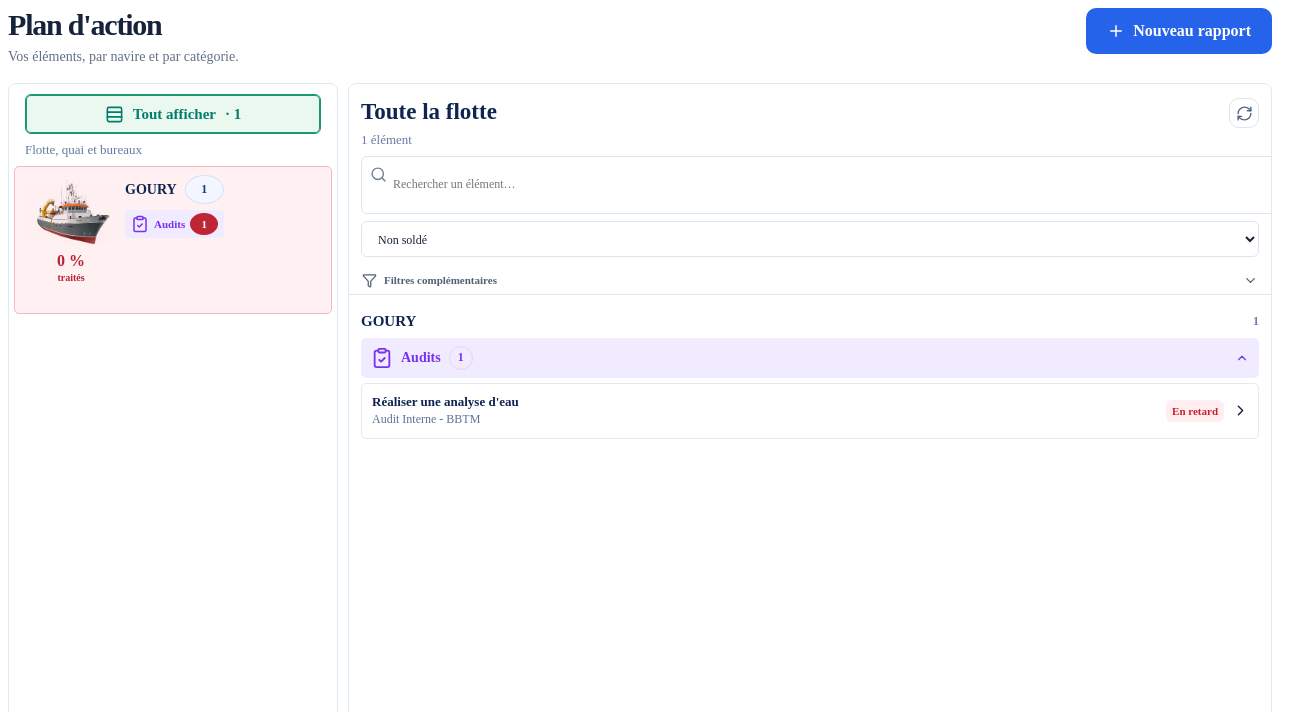
Scenario: ActionPlanPage › keeps reports readable and hides followup controls when server capabilities fail
Click the button with aria-label "Réaliser une analyse d'eau · GOURY" at (445, 402), box [361,383,1259,439]
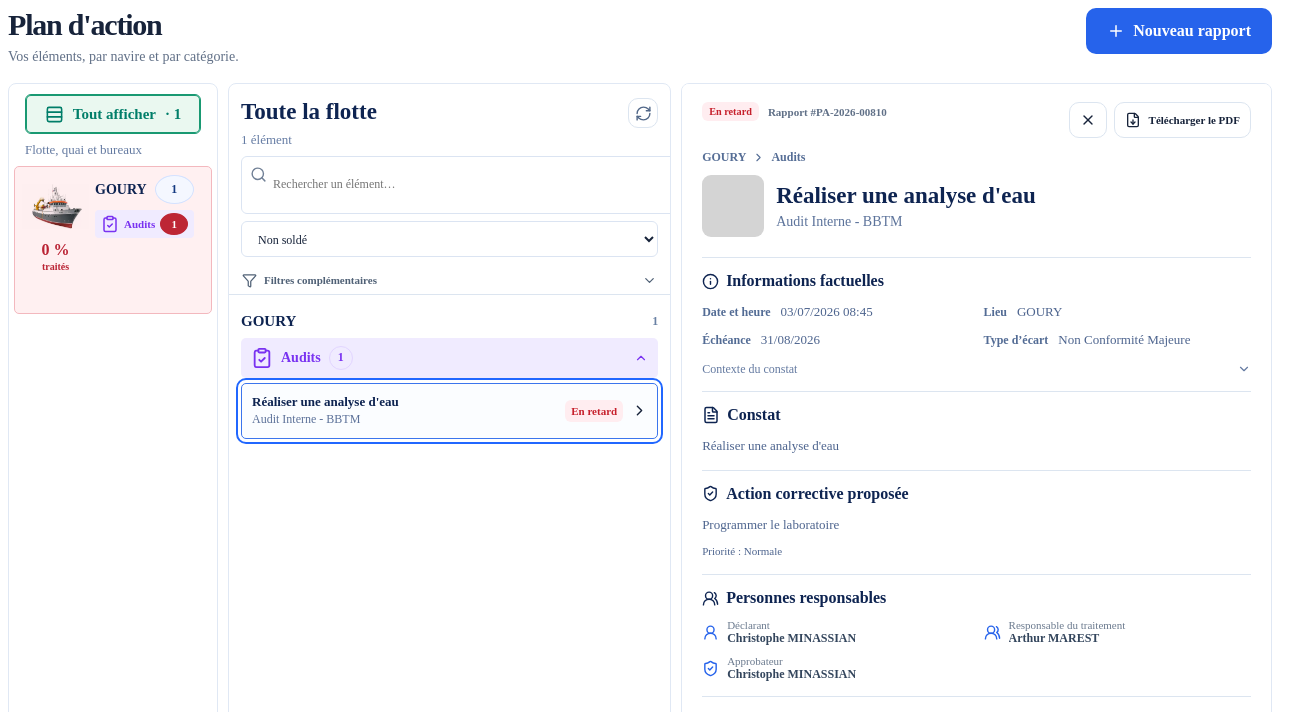
Expected: the heading "Réaliser une analyse d'eau" is shown, [776,182,1036,209]
